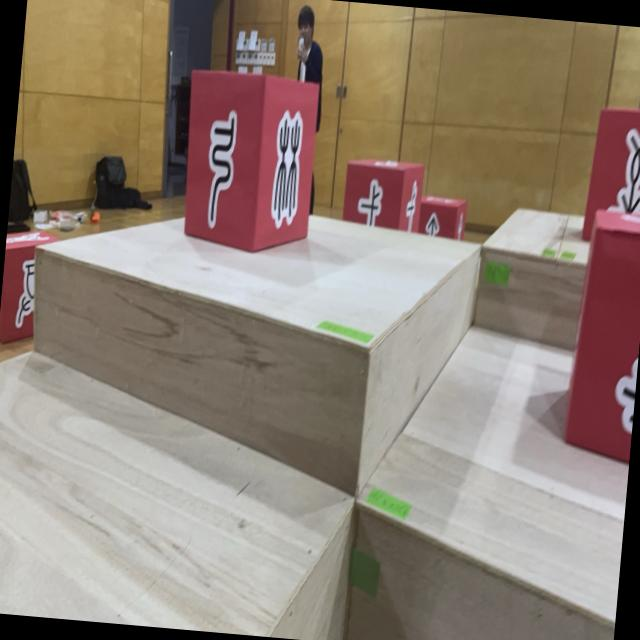12: (424, 210, 442, 237)
2: (268, 107, 307, 230)
4: (200, 108, 240, 232)
7: (608, 124, 640, 214)
8: (15, 256, 38, 330), (5, 228, 50, 246)
9: (355, 178, 384, 228), (404, 179, 418, 232)
fighter: (175, 68, 321, 258), (563, 206, 640, 463), (581, 103, 640, 245), (0, 226, 59, 347), (342, 154, 426, 231), (418, 193, 467, 241)
